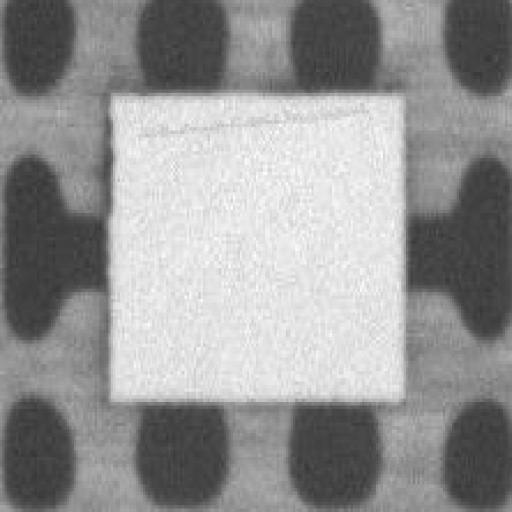DIE_CRACK: (203, 70, 512, 88)
